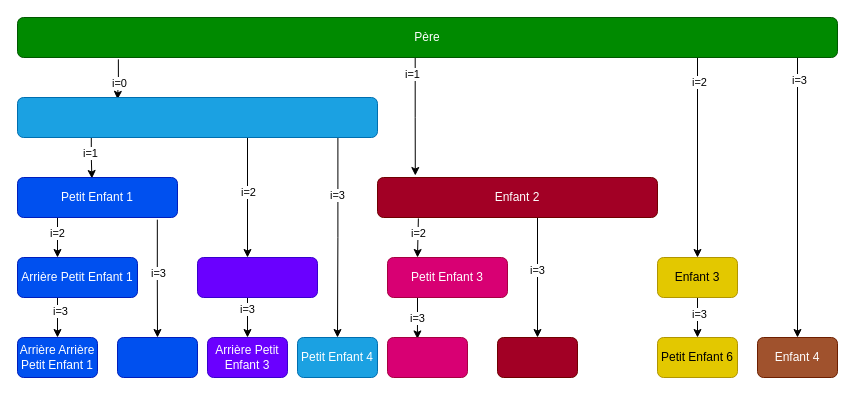
This 855x395 diagram has some shape labels left out. The shapes that lost their labels are listed below. From the top down, each one's box as (x1, y1, x2, y2) in pixels, then its label:
(16, 96, 378, 138): Enfant 1
(196, 256, 318, 298): Petit Enfant 2
(116, 336, 198, 378): Arrière Petit Enfant 2
(386, 336, 468, 378): Arrière Petit Enfant 4
(496, 336, 578, 378): Petit Enfant 5
